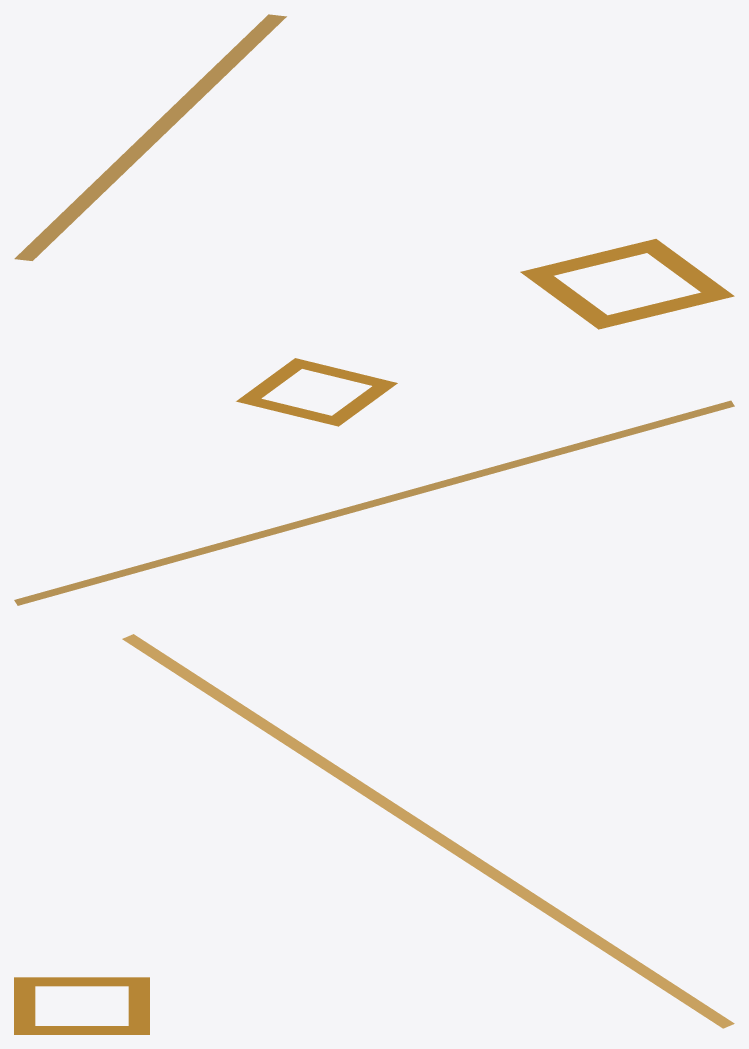
Rendered from kd_connection_town-ground_surface_3_37.glb.
3 renders of one model, top to bottom at view 1: azimuth 30°, elevation 25°; view 2: azimuth 150°, elevation 25°; view 3: azimuth 270°, elevation 25°, orthographic. The views are drawn at different scales.
Parts seen in each view (by area): view 1: kd_connection_town-ground_surface_3_37; view 2: kd_connection_town-ground_surface_3_37; view 3: kd_connection_town-ground_surface_3_37.
Boxes of the visible parts, x1,y1,x2,y2 form: kd_connection_town-ground_surface_3_37: [14, 14, 734, 329]; kd_connection_town-ground_surface_3_37: [14, 358, 734, 605]; kd_connection_town-ground_surface_3_37: [14, 634, 734, 1034].
Bounding box in the file's own units: 3.04 × 0.6998 × 3.37.
Materials: 1 (1 with a texture image).
